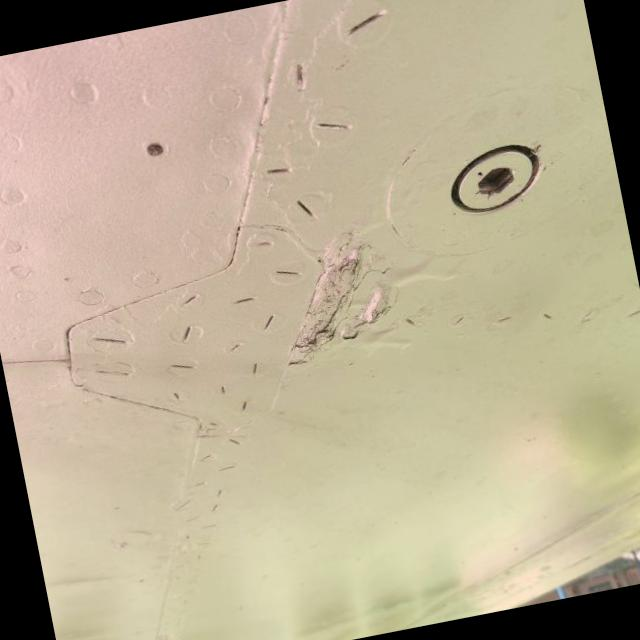paint-off: (256, 212, 418, 378)
